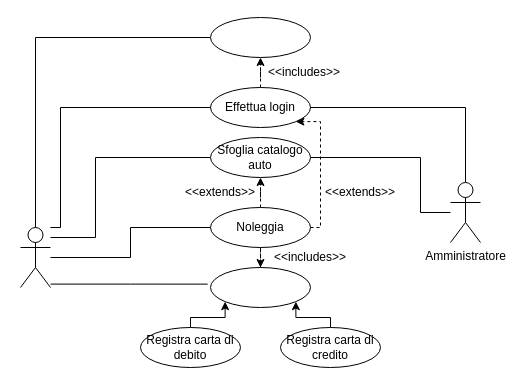
Some shapes in this 523 by 385 pixel diagram are drawn without their labels. The centre of each missing label's shape, as x and y in pixels:
"Cliente" belongs at point (35, 257).
"Effettua registrazione" belongs at point (260, 37).
"Registra metodo di pagamento" belongs at point (260, 287).
